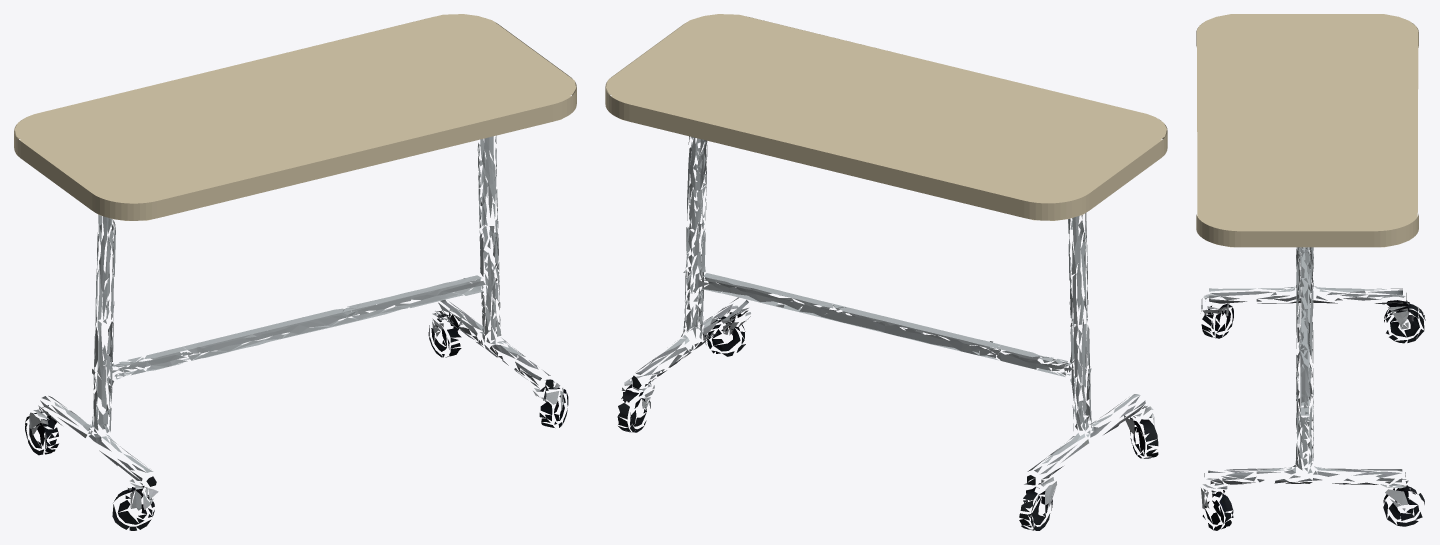
Rendered from lod2_source.glb.
3 views of the same model, side by side, from view 1: azimuth 30°, elevation 25°; view 2: azimuth 150°, elevation 25°; view 3: azimuth 270°, elevation 25° (orthographic). The views are drawn at different scales.
Parts seen in each view (by area): view 1: Rounded flat tabletop, geometry_0; view 2: Rounded flat tabletop, geometry_0; view 3: Rounded flat tabletop, geometry_0.
Boxes of the visible parts, x1,y1,x2,y2 form: Rounded flat tabletop: (14, 14, 576, 220); geometry_0: (25, 136, 568, 530); Rounded flat tabletop: (605, 14, 1167, 220); geometry_0: (617, 136, 1158, 530); Rounded flat tabletop: (1196, 14, 1418, 247); geometry_0: (1200, 247, 1425, 530).
Size of the model in its own units: 1.5 by 0.9998 by 0.6698.
3 materials, 1 textured.
